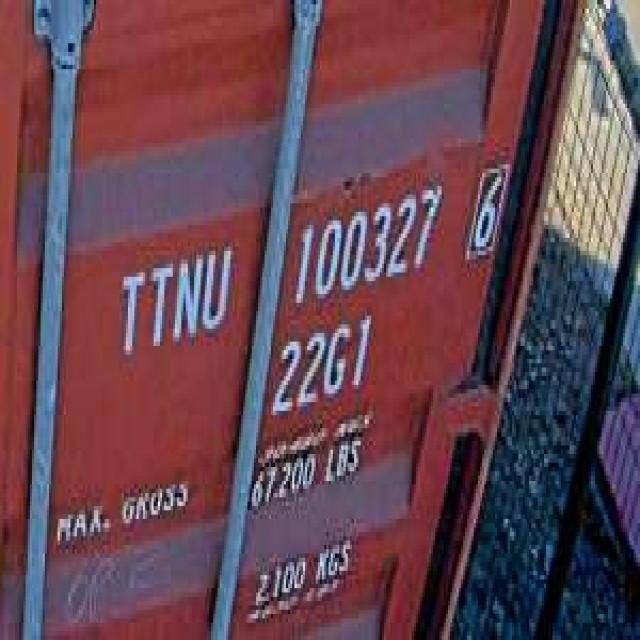dv: (463, 147, 508, 272)
owner: (111, 233, 235, 359)
serial: (288, 186, 444, 307)
size: (269, 312, 373, 419)
